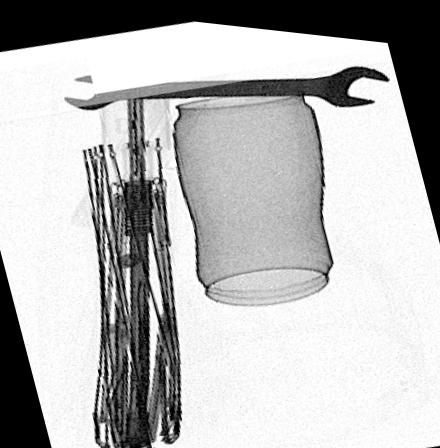Wrench: (57, 57, 390, 107)
